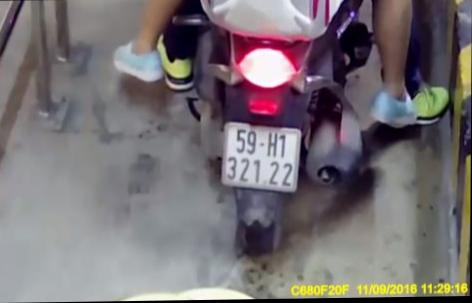LP: (223, 121, 303, 193)
